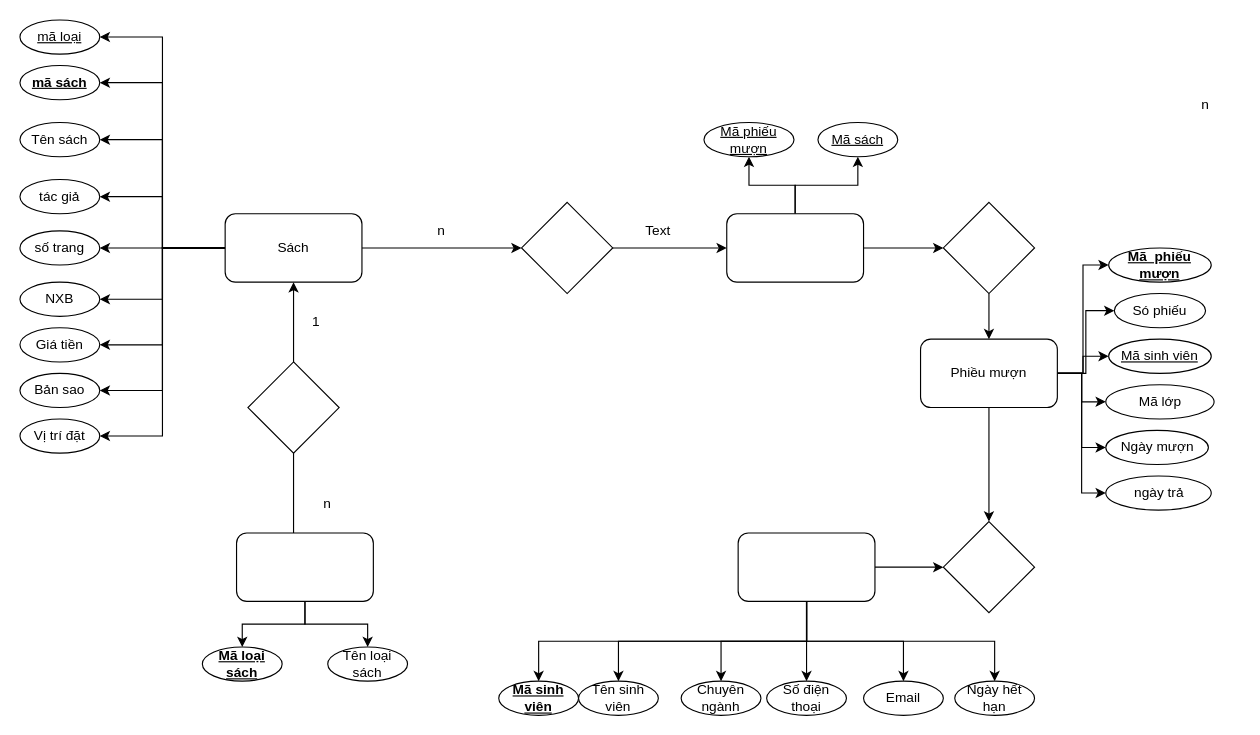
Some shapes in this 1260 by 735 pixel diagram are drawn without their labels. The centre of each missing label's shape, as x and y in pixels:
Chi tiết phiếu mượn: point (795, 247)
Loại sách: point (304, 566)
Nằm trong: point (988, 247)
Sinh viên: point (806, 566)
thể loại sách: point (293, 407)
Tạo ra: point (988, 566)
Được mượn: point (566, 247)
